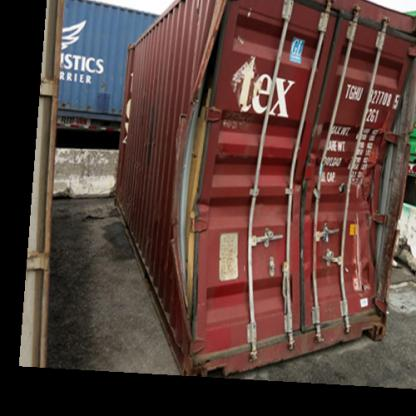Damage: (170, 59, 224, 296)
